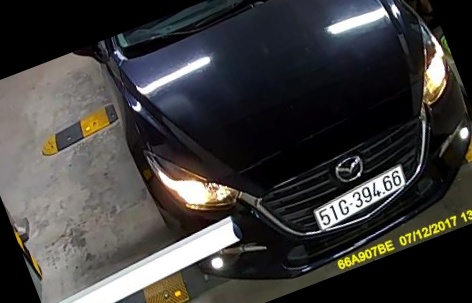plate: (305, 164, 405, 234)
